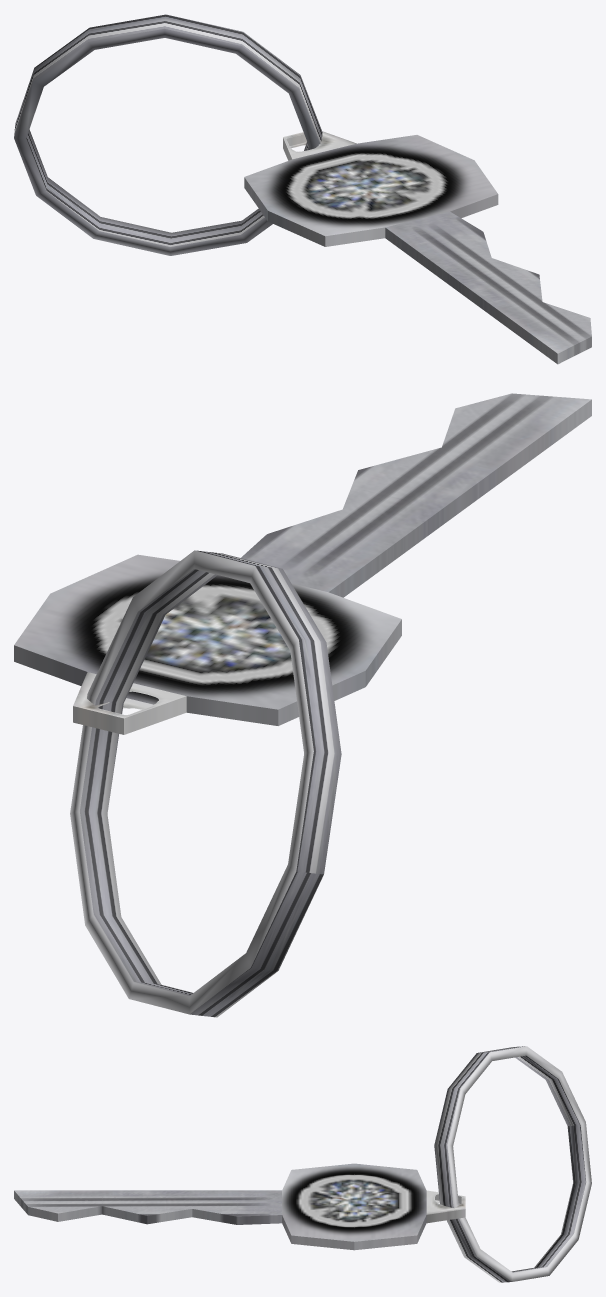
File: key_j_diamond.fbx
3 views of the same model, one above another, from view 1: azimuth 30°, elevation 25°; view 2: azimuth 150°, elevation 25°; view 3: azimuth 270°, elevation 25° (orthographic). The views are drawn at different scales.
Visible parts, largest first — view 1: key_j_diam; view 2: key_j_diam; view 3: key_j_diam.
Boxes of the visible parts, x1,y1,x2,y2 form: key_j_diam: (14,14,591,364); key_j_diam: (14,393,591,1017); key_j_diam: (14,1046,591,1282).
Size of the model in its own units: 10.09 by 8.2 by 20.32.
1 material, 1 textured.
